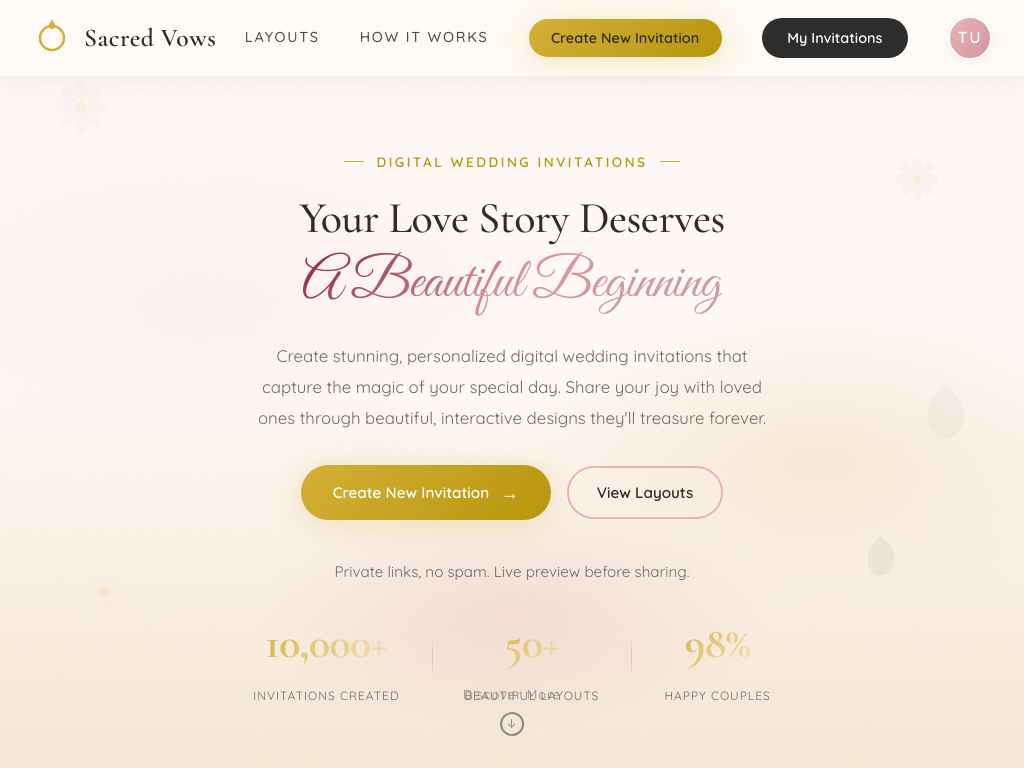
it: HeroSection - Authenticated UI › User Interactions › should close dropdown when clicking outside
The width and height of the screenshot is (1024, 768).
Click the text "TU" at (970, 38), box [948,16,992,60]
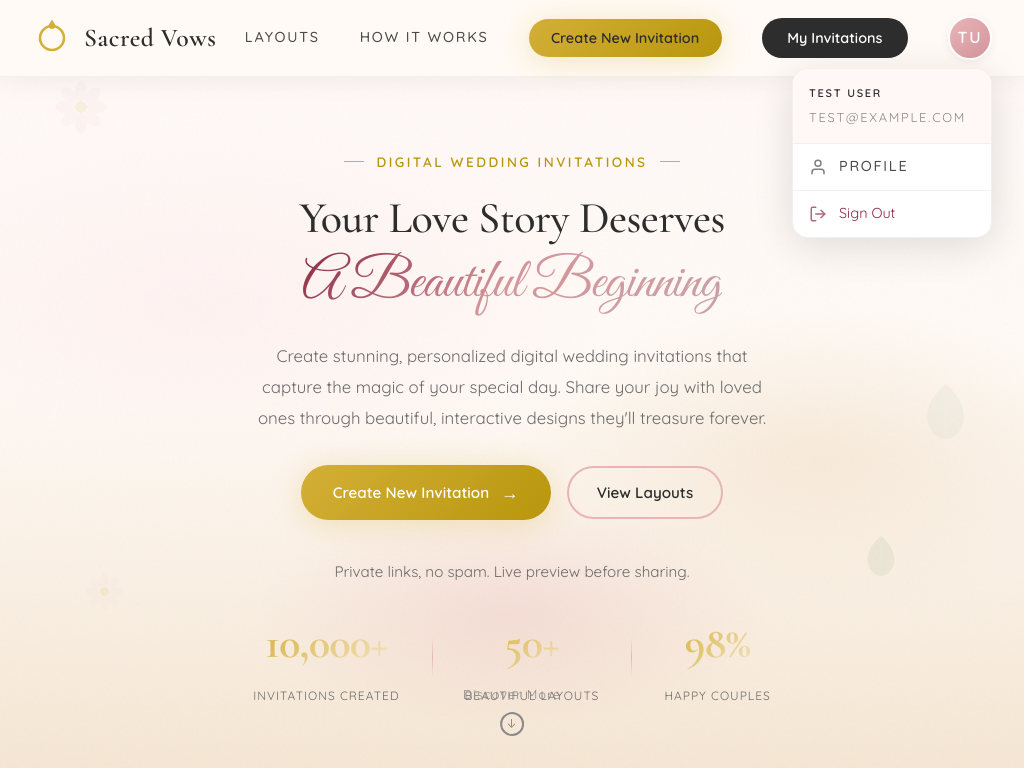
expect the element with class "open" is shown: met, box [792,68,992,238]
expect the text "Test User" is shown: met, box [809,86,882,100]
Press the mouse on the element with class "hero-main" at (512, 428), box [253,153,771,703]
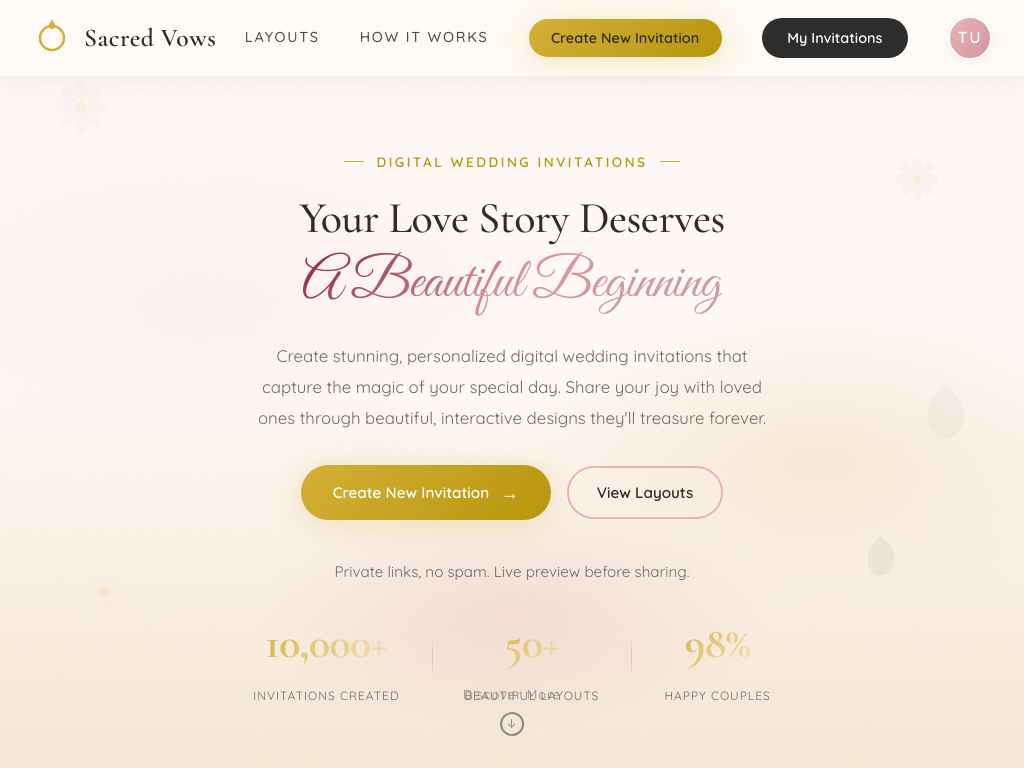
expect the element with class "open" is gone: met
